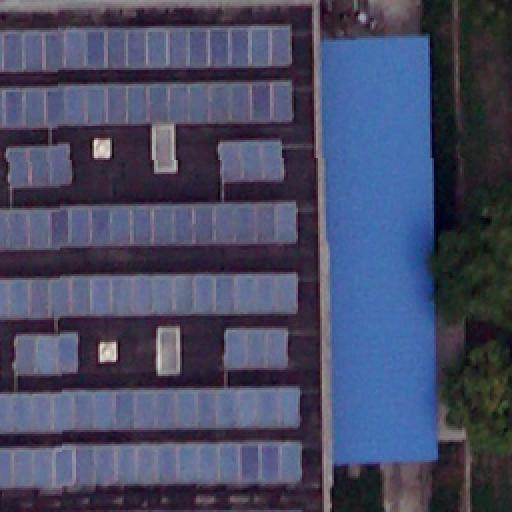solar-panel: (1, 439, 303, 489), (1, 383, 303, 433), (0, 272, 296, 320), (1, 82, 295, 130), (0, 26, 292, 74), (0, 205, 296, 251), (14, 329, 78, 375), (223, 326, 289, 370), (6, 146, 70, 190), (219, 143, 285, 185), (138, 508, 302, 512)
